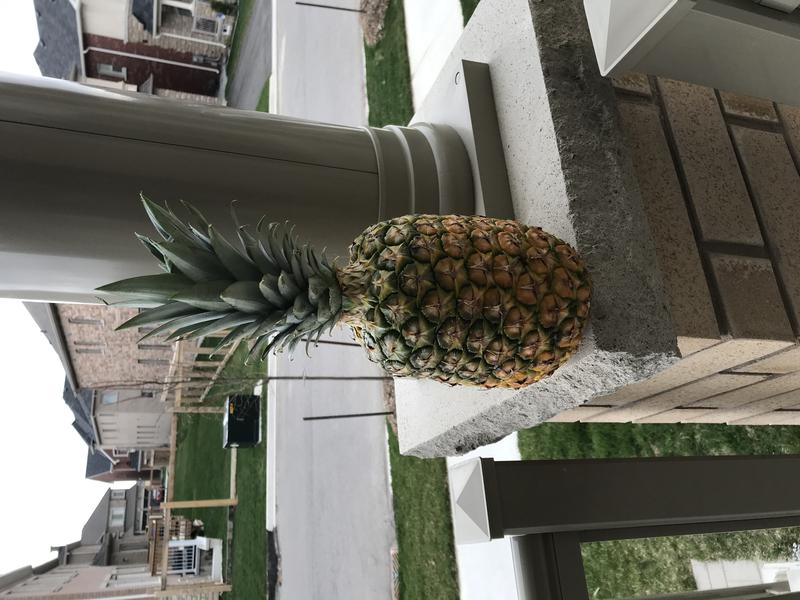pineapple: (93, 185, 599, 399)
